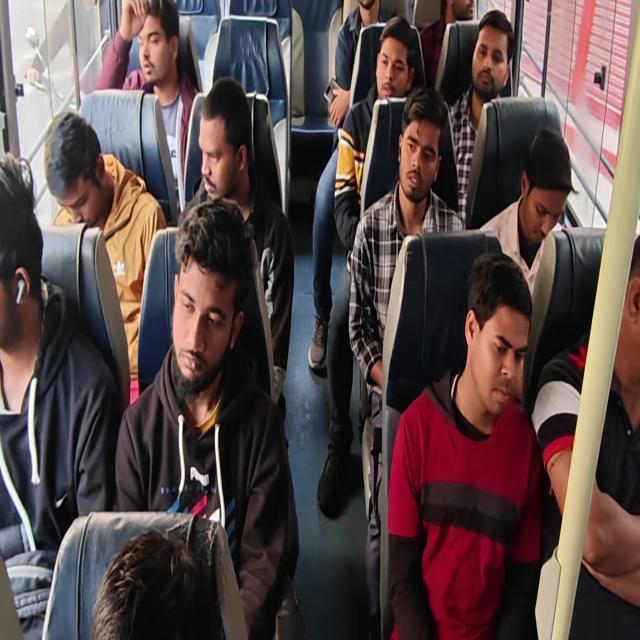person: (1, 1, 638, 638), (113, 200, 303, 638), (347, 85, 465, 637), (386, 251, 546, 638), (0, 156, 122, 638), (313, 15, 419, 519), (531, 231, 639, 638), (177, 76, 295, 425), (44, 111, 167, 405), (94, 0, 199, 212), (333, 15, 417, 271), (479, 127, 577, 299), (91, 528, 224, 639), (447, 9, 515, 225), (326, 0, 394, 130), (419, 0, 475, 88)
